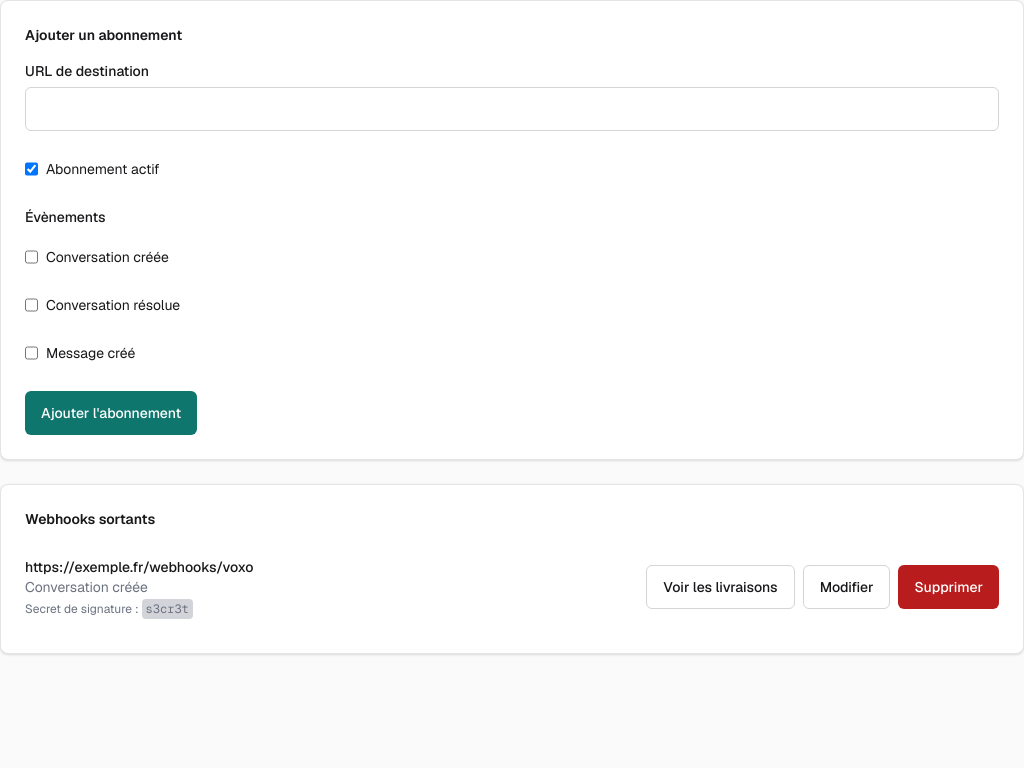
Test case: WebhookSubscriptionsPage › supprime un abonnement
expect the text "https://exemple.fr/webhooks/voxo" is shown: met, box [25,557,254,577]
What coordinates should you click on to do the following:
click the button "Supprimer"
I would click on:
 (949, 587)
Its box is [898,565,999,609].
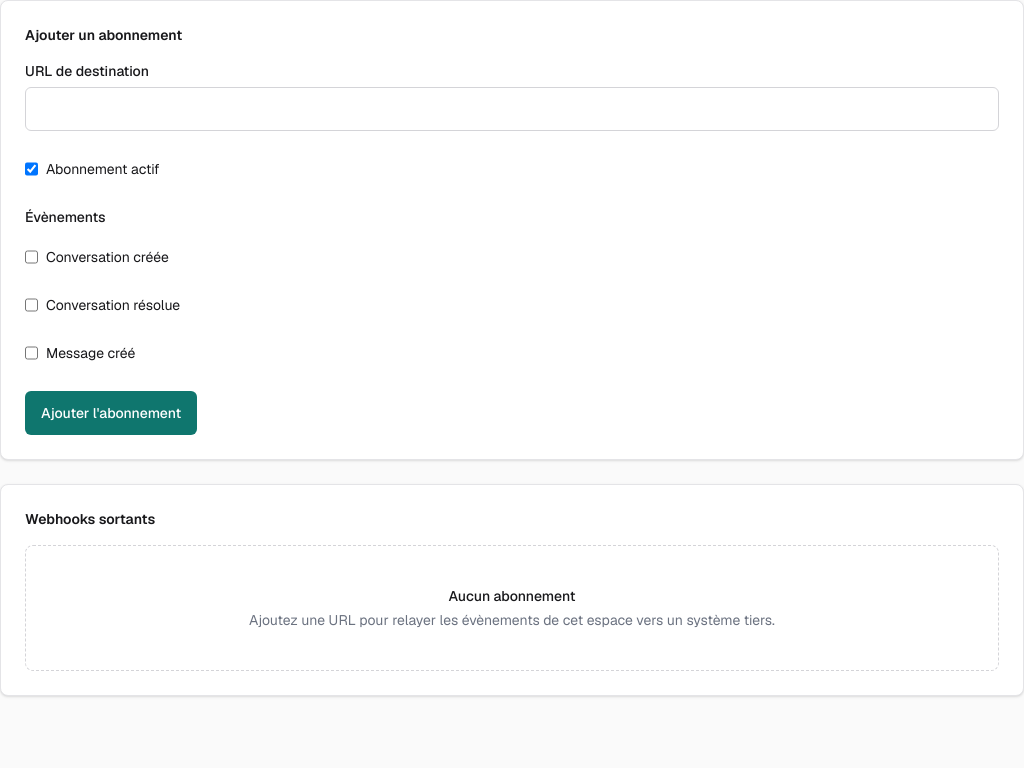
expect the text "https://exemple.fr/webhooks/voxo" is gone: met
